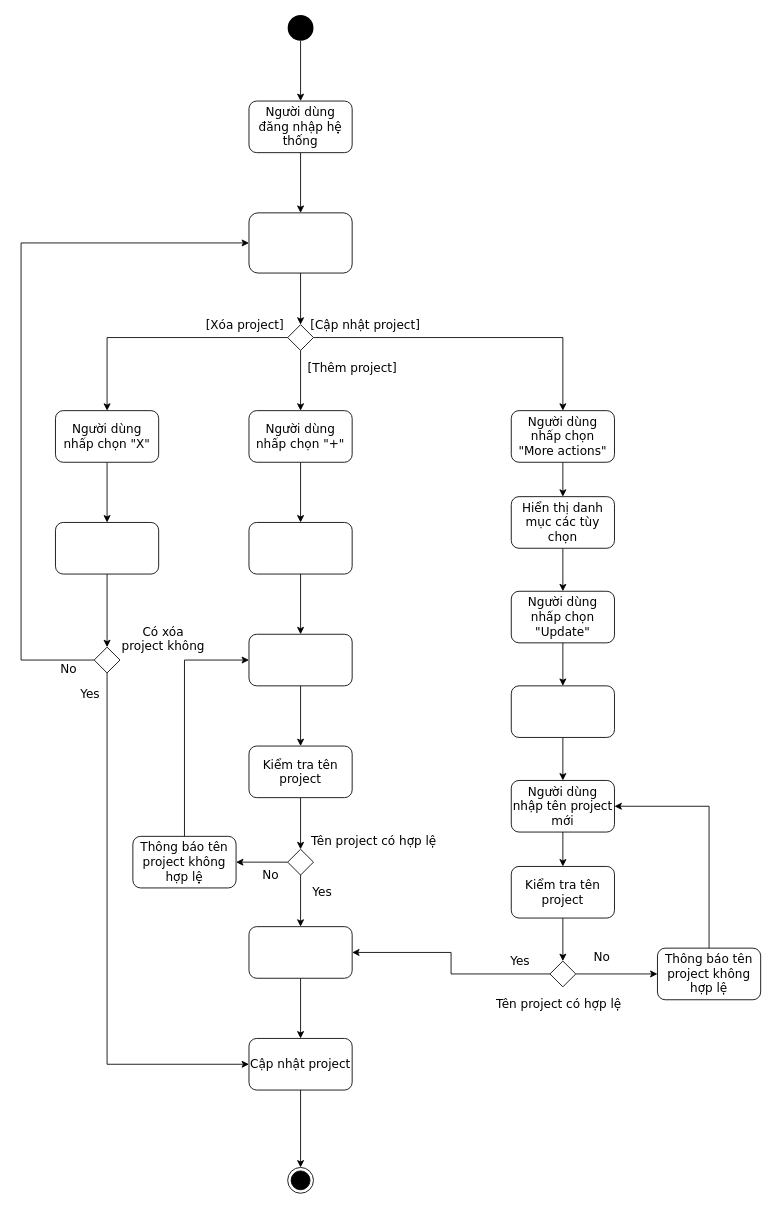
Some shapes in this 776 by 1208 pixel diagram are drawn without their labels. The centre of each missing label's shape, as x and y in pixels:
Hiển thị giao diện chính cùng với danh sách project: (x=300, y=242)
HIển thị giao diện cập nhật project: (x=562, y=711)
Hiển thị giao diện tạo mới project: (x=300, y=548)
Hiển thị hộp thoại xác nhận xóa project: (x=107, y=548)
Người dùng nhập tên project: (x=300, y=659)
Nhấp "Save": (x=300, y=952)
